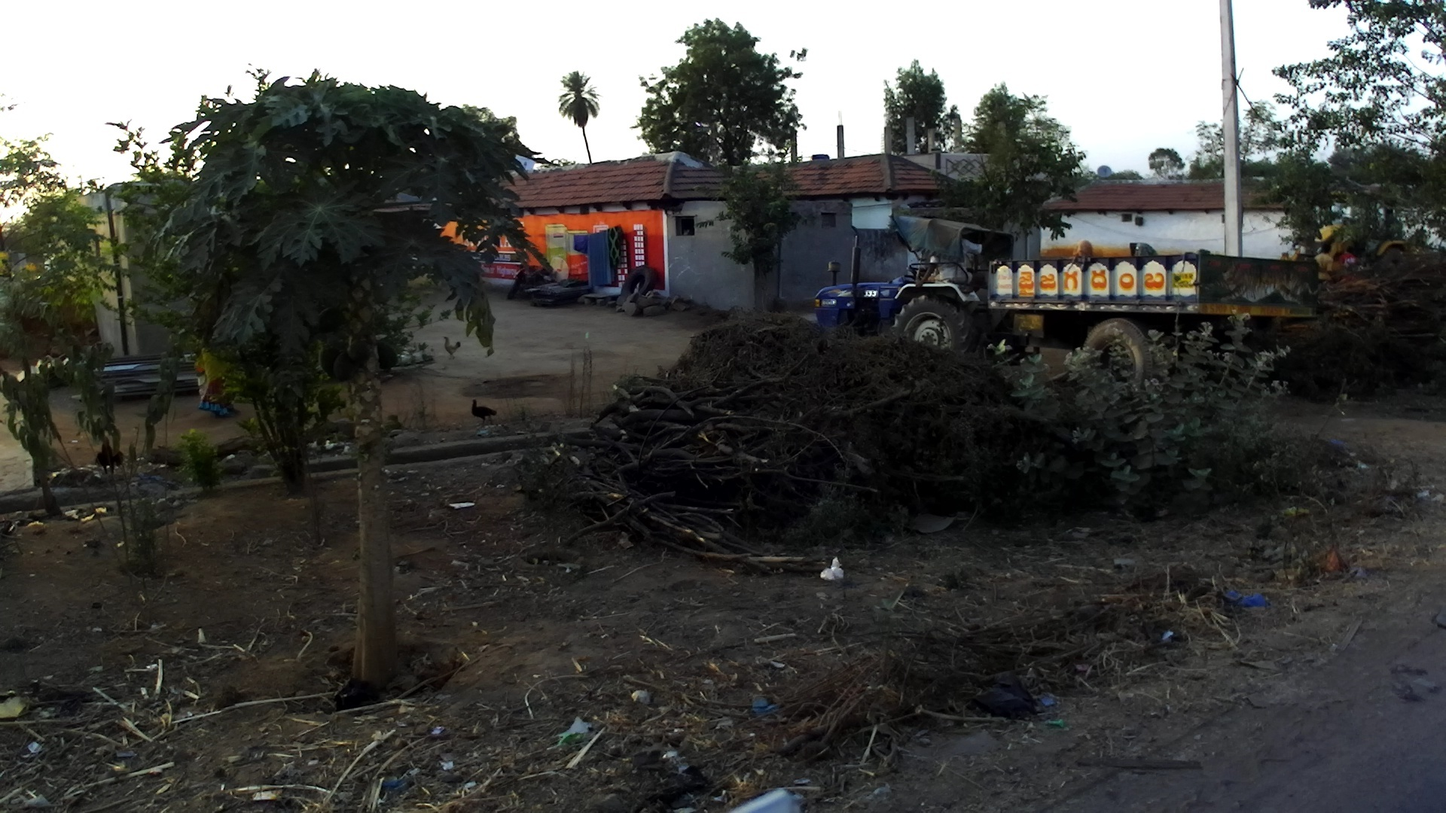animal: (471, 397, 499, 427), (443, 335, 461, 362)
person: (192, 352, 244, 416), (1315, 243, 1337, 286), (1340, 245, 1358, 272)
vehicle fallback: (813, 209, 1319, 397), (1279, 223, 1408, 280)
